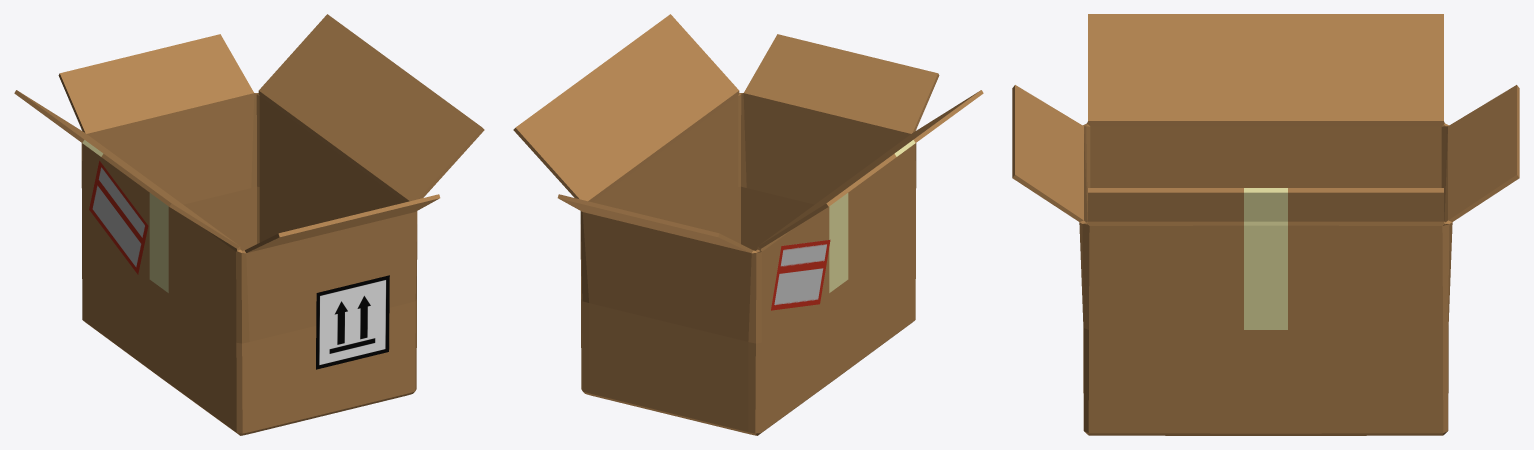
File: Cardboard.020.gltf
3 views of the same model, side by side, from view 1: azimuth 30°, elevation 25°; view 2: azimuth 150°, elevation 25°; view 3: azimuth 270°, elevation 25° (orthographic). The views are drawn at different scales.
Visible parts, largest first — view 1: Cardboard.020, sign2.012, RedSticker.011; view 2: Cardboard.020, RedSticker.011; view 3: Cardboard.020.
Part boxes in pixels (<box>): Cardboard.020: <box>14,14,484,435</box>; sign2.012: <box>316,275,389,369</box>; RedSticker.011: <box>89,160,148,274</box>; Cardboard.020: <box>513,14,983,435</box>; RedSticker.011: <box>771,239,830,310</box>; Cardboard.020: <box>1012,14,1519,435</box>.
Bounding box in the file's own units: 0.6638 × 0.5029 × 0.8056.
Materials: 4 (2 with a texture image).
